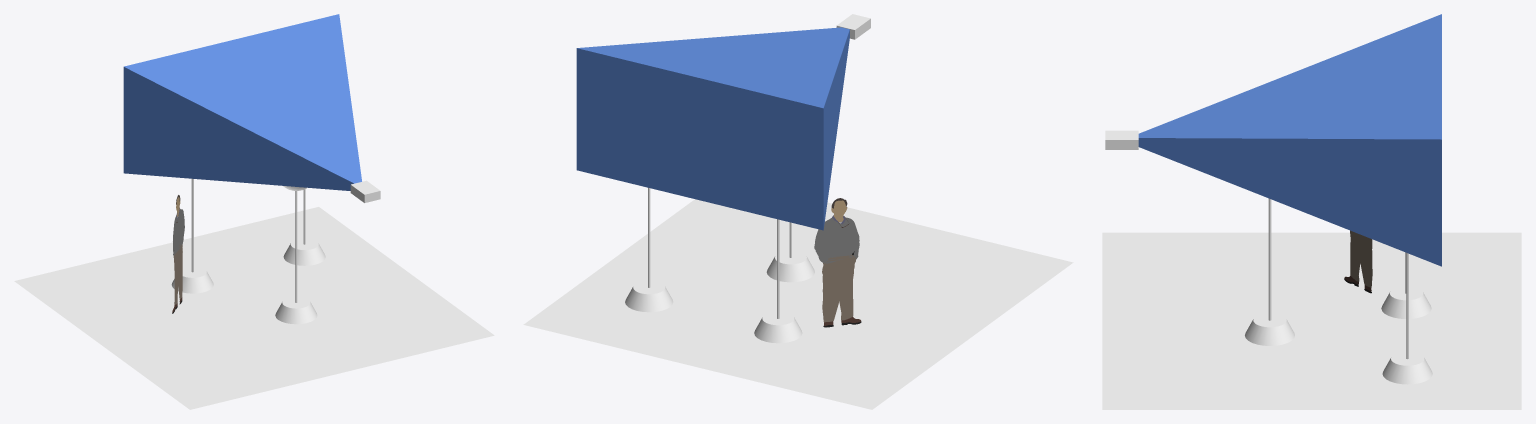
The model's file is SET_05_GLOBOS.obj.
3 renders of one model, left to right at view 1: azimuth 30°, elevation 25°; view 2: azimuth 150°, elevation 25°; view 3: azimuth 270°, elevation 25°, orthographic. The views are drawn at different scales.
Visible parts, largest first — view 1: Mesh2 Component_9_1 Model, Mesh3 Component_67_1 Component_66_1 Component_65_1 Model, Mesh6 Component_71_1 Component_72_1 Model, Mesh8 Component_71_2 Component_72_2 Model, Mesh10 Component_71_3 Component_72_3 Model, Mesh1 Derrick1 Model, Mesh4 Component_6_1 Component_66_1 Component_65_1 Model; view 2: Mesh2 Component_9_1 Model, Mesh3 Component_67_1 Component_66_1 Component_65_1 Model, Mesh1 Derrick1 Model, Mesh10 Component_71_3 Component_72_3 Model, Mesh8 Component_71_2 Component_72_2 Model, Mesh6 Component_71_1 Component_72_1 Model, Mesh4 Component_6_1 Component_66_1 Component_65_1 Model; view 3: Mesh2 Component_9_1 Model, Mesh3 Component_67_1 Component_66_1 Component_65_1 Model, Mesh6 Component_71_1 Component_72_1 Model, Mesh10 Component_71_3 Component_72_3 Model, Mesh8 Component_71_2 Component_72_2 Model, Mesh1 Derrick1 Model, Mesh4 Component_6_1 Component_66_1 Component_65_1 Model.
Boxes of the visible parts, x1,y1,x2,y2 form: Mesh2 Component_9_1 Model: [14, 207, 494, 409]; Mesh3 Component_67_1 Component_66_1 Component_65_1 Model: [123, 14, 361, 190]; Mesh6 Component_71_1 Component_72_1 Model: [275, 191, 317, 324]; Mesh8 Component_71_2 Component_72_2 Model: [171, 178, 213, 293]; Mesh10 Component_71_3 Component_72_3 Model: [283, 189, 325, 265]; Mesh1 Derrick1 Model: [172, 195, 184, 313]; Mesh4 Component_6_1 Component_66_1 Component_65_1 Model: [350, 180, 380, 202]; Mesh2 Component_9_1 Model: [523, 199, 1073, 409]; Mesh3 Component_67_1 Component_66_1 Component_65_1 Model: [576, 27, 849, 230]; Mesh1 Derrick1 Model: [814, 198, 861, 327]; Mesh10 Component_71_3 Component_72_3 Model: [625, 187, 673, 312]; Mesh8 Component_71_2 Component_72_2 Model: [754, 219, 802, 343]; Mesh6 Component_71_1 Component_72_1 Model: [766, 222, 814, 282]; Mesh4 Component_6_1 Component_66_1 Component_65_1 Model: [836, 14, 870, 39]; Mesh2 Component_9_1 Model: [1102, 232, 1521, 409]; Mesh3 Component_67_1 Component_66_1 Component_65_1 Model: [1138, 14, 1441, 266]; Mesh6 Component_71_1 Component_72_1 Model: [1245, 198, 1294, 345]; Mesh10 Component_71_3 Component_72_3 Model: [1382, 253, 1432, 384]; Mesh8 Component_71_2 Component_72_2 Model: [1381, 252, 1431, 318]; Mesh1 Derrick1 Model: [1344, 230, 1372, 293]; Mesh4 Component_6_1 Component_66_1 Component_65_1 Model: [1105, 130, 1138, 149].
Bounding box in the file's own units: 5000 × 3456 × 5000.
